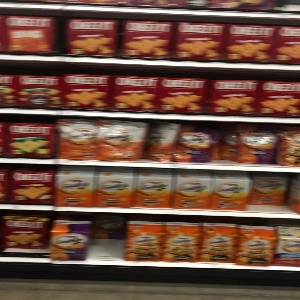void: (247, 175, 296, 215), (88, 213, 128, 257)
